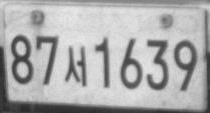1: (90, 36, 116, 88)
3: (145, 39, 170, 91)
6: (119, 36, 143, 89)
7: (35, 34, 59, 86)
8: (9, 34, 34, 85)
9: (172, 38, 198, 92)
서: (63, 45, 88, 87)
